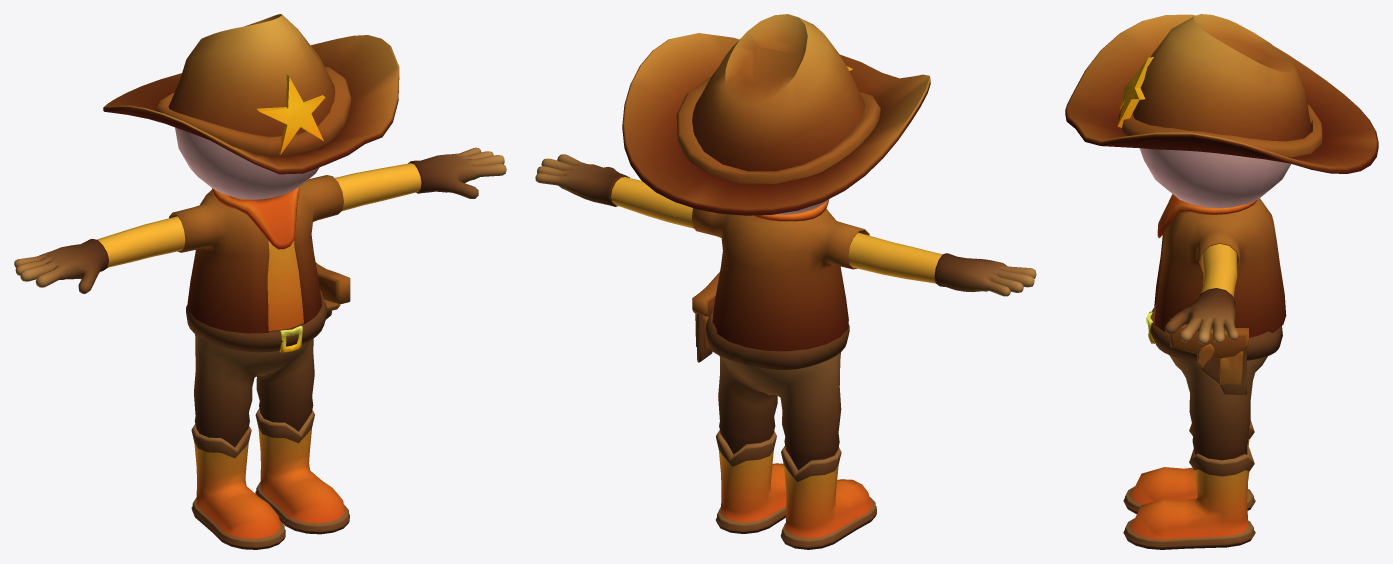
The model's file is cowboy_001.fbx.
The picture shows the model from 3 angles, left to right: view 1: azimuth 30°, elevation 25°; view 2: azimuth 150°, elevation 25°; view 3: azimuth 270°, elevation 25°; orthographic projection.
Parts seen in each view (by area): view 1: sheriffHat_2.001, Mesh_oduncu_body.002, Mesh_oduncu_body.001, Mesh_oduncu_body.003, Mesh_oduncu_body.005, Mesh_oduncu_body.004, belt2.001; view 2: sheriffHat_2.001, Mesh_oduncu_body.002, Mesh_oduncu_body.001, Mesh_oduncu_body.003, Mesh_oduncu_body.005, belt2.001; view 3: sheriffHat_2.001, Mesh_oduncu_body.002, Mesh_oduncu_body.001, Mesh_oduncu_body.004, Mesh_oduncu_body.003, belt2.001, Mesh_oduncu_body.005.
Boxes of the visible parts, box(x1,y1,x2,y2) form: sheriffHat_2.001: box(103, 14, 399, 174); Mesh_oduncu_body.002: box(97, 163, 421, 333); Mesh_oduncu_body.001: box(191, 408, 349, 549); Mesh_oduncu_body.003: box(194, 334, 314, 447); Mesh_oduncu_body.005: box(14, 147, 506, 293); Mesh_oduncu_body.004: box(175, 127, 319, 199); belt2.001: box(186, 262, 350, 352); sheriffHat_2.001: box(622, 14, 930, 215); Mesh_oduncu_body.002: box(611, 177, 942, 351); Mesh_oduncu_body.001: box(716, 430, 876, 549); Mesh_oduncu_body.003: box(718, 352, 841, 470); Mesh_oduncu_body.005: box(535, 154, 1036, 296); belt2.001: box(692, 272, 849, 369); sheriffHat_2.001: box(1065, 14, 1378, 173); Mesh_oduncu_body.002: box(1154, 194, 1286, 337); Mesh_oduncu_body.001: box(1123, 420, 1255, 549); Mesh_oduncu_body.004: box(1140, 148, 1290, 208); Mesh_oduncu_body.003: box(1169, 355, 1267, 460); belt2.001: box(1146, 306, 1282, 394); Mesh_oduncu_body.005: box(1164, 288, 1238, 344).
Size of the model in its own units: 74.62 by 72.94 by 41.36.
